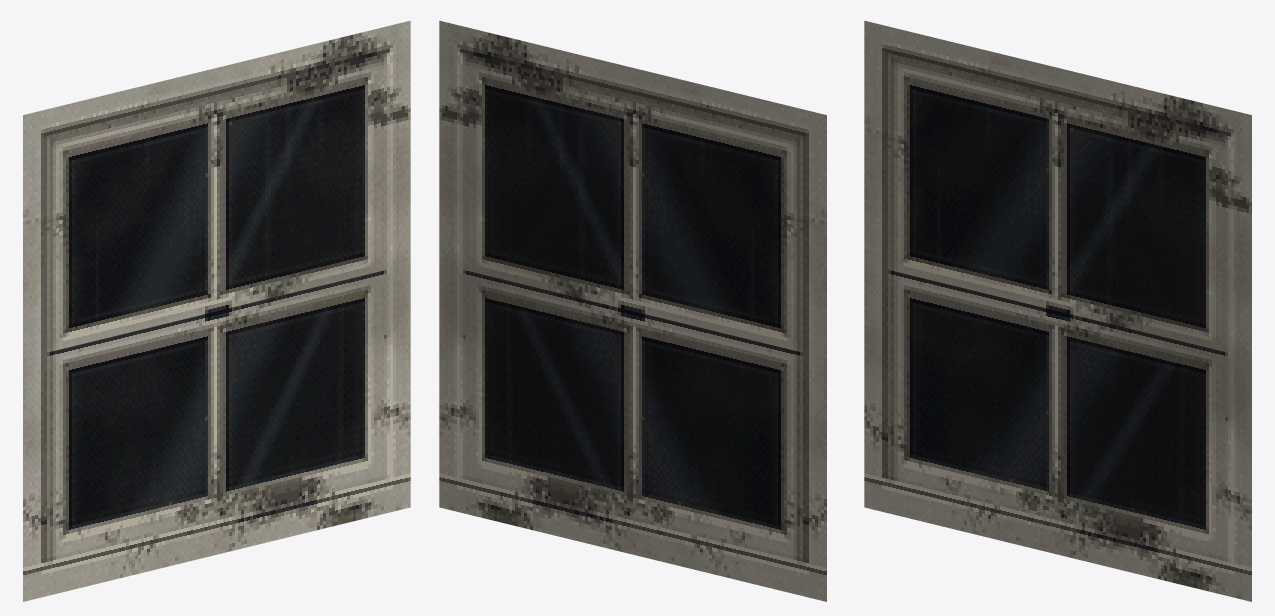
The model's file is house_window.glb.
3 views of the same model, side by side, from view 1: azimuth 30°, elevation 25°; view 2: azimuth 150°, elevation 25°; view 3: azimuth 330°, elevation 25° (orthographic).
Parts seen in each view (by area): view 1: house_window; view 2: house_window; view 3: house_window.
Boxes of the visible parts, x1,y1,x2,y2 form: house_window: (23,20,410,601); house_window: (439,20,826,601); house_window: (864,20,1251,601).
Size of the model in its own units: 1 by 1.2 by 0.04.
1 material, 1 textured.
